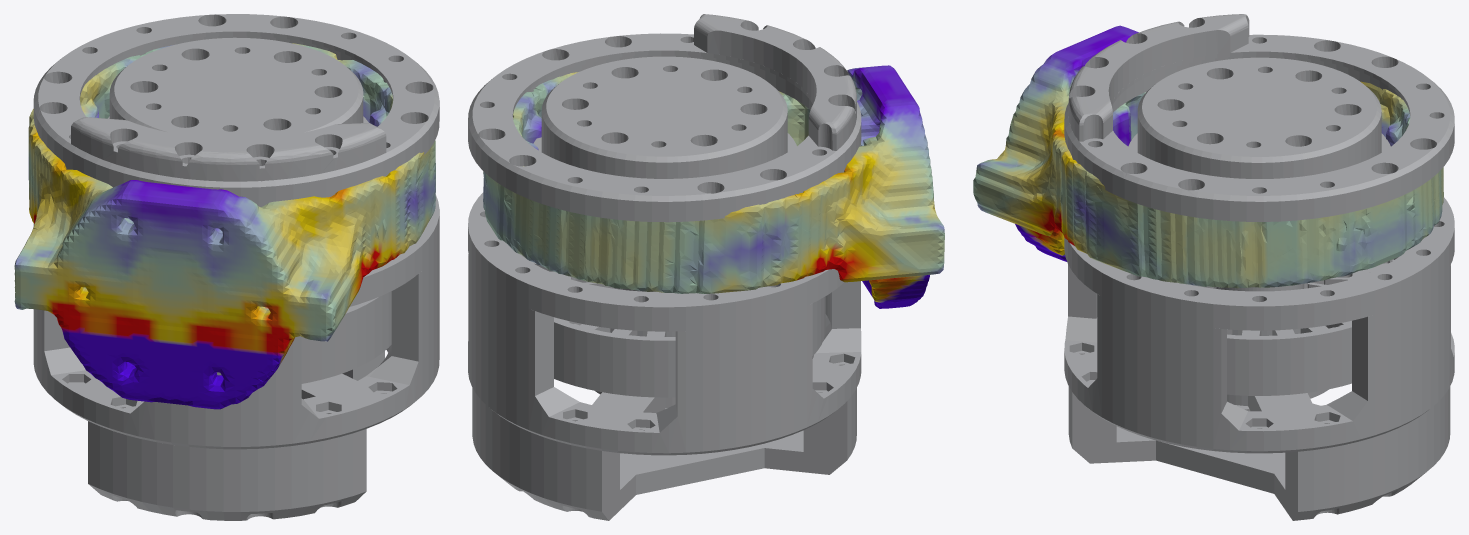
Rendered from leg_right_hip_yaw_opt.glb.
3 renders of one model, left to right at view 1: azimuth 30°, elevation 25°; view 2: azimuth 150°, elevation 25°; view 3: azimuth 270°, elevation 25°, orthographic. The views are drawn at different scales.
Visible parts, largest first — view 1: leg_right_hip_yaw_visual.stl; view 2: leg_right_hip_yaw_visual.stl; view 3: leg_right_hip_yaw_visual.stl.
Part boxes in pixels (left/top/right/bottom): leg_right_hip_yaw_visual.stl: left=14, top=14, right=439, bottom=520; leg_right_hip_yaw_visual.stl: left=468, top=14, right=944, bottom=520; leg_right_hip_yaw_visual.stl: left=973, top=14, right=1454, bottom=520.
Bounding box in the file's own units: 0.1078 × 0.089 × 0.1085.
